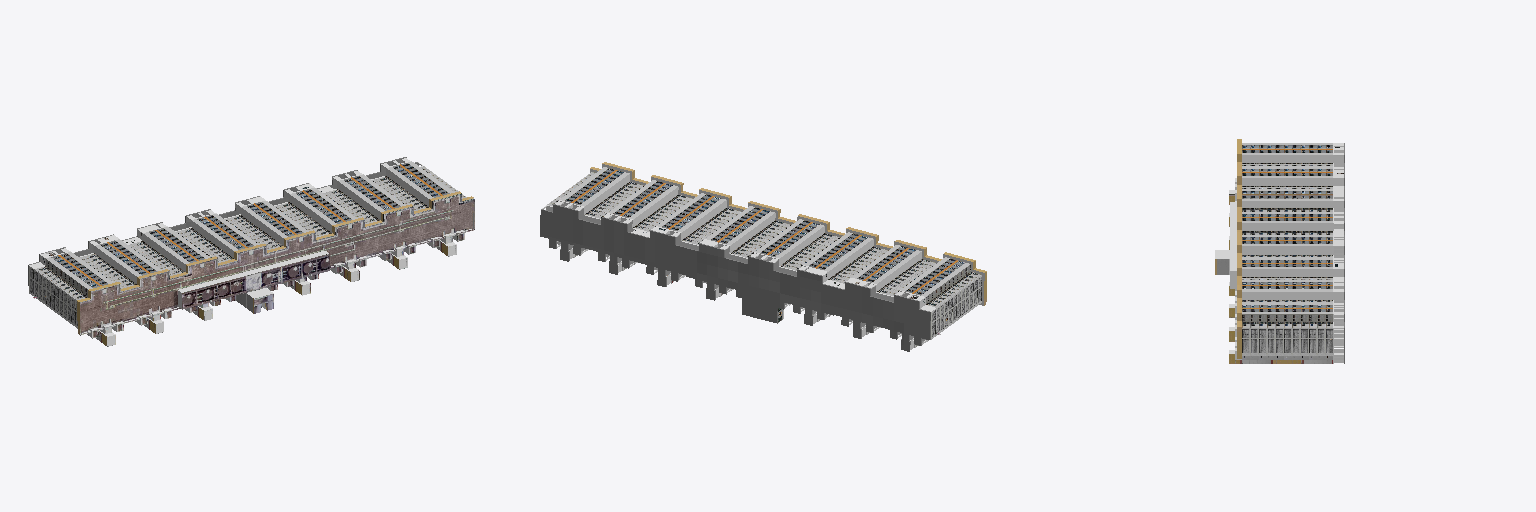
3 renders of one model, left to right at view 1: azimuth 30°, elevation 25°; view 2: azimuth 150°, elevation 25°; view 3: azimuth 270°, elevation 25°, orthographic.
Visible parts, largest first — view 1: polygon.815; view 2: polygon.815; view 3: polygon.815.
Boxes of the visible parts, box(x1,y1,x2,y2) form: polygon.815: box(28, 157, 474, 346); polygon.815: box(540, 162, 986, 351); polygon.815: box(1215, 139, 1344, 363).
Bounding box in the file's own units: 147 × 23.7 × 41.87.
Materials: 1 (1 with a texture image).